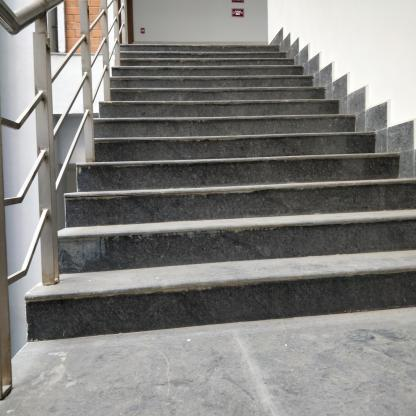stairs: (123, 43, 281, 344)
